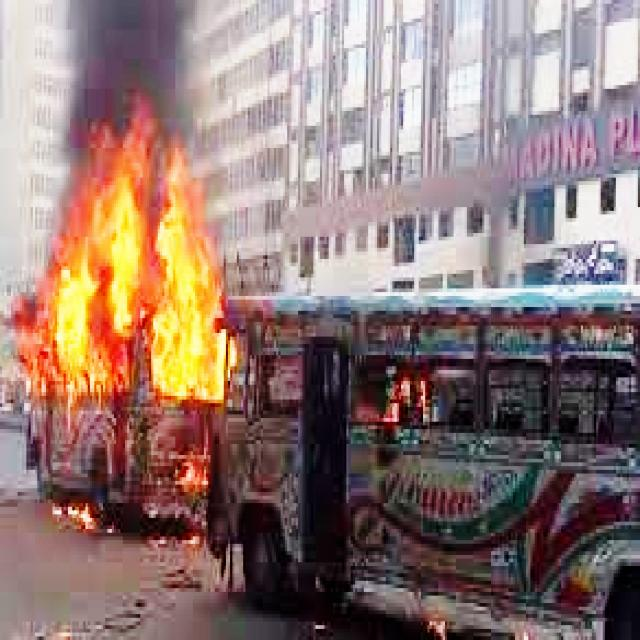api: (19, 112, 247, 434), (361, 353, 442, 449), (36, 464, 111, 560), (159, 438, 220, 512)
